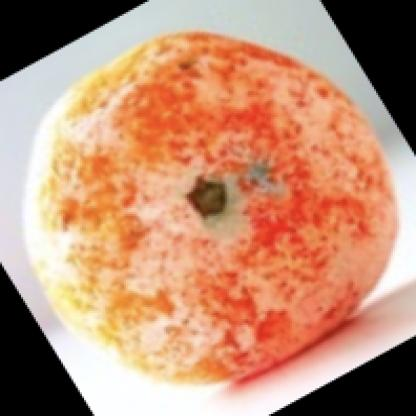rotten: (26, 31, 398, 386)
